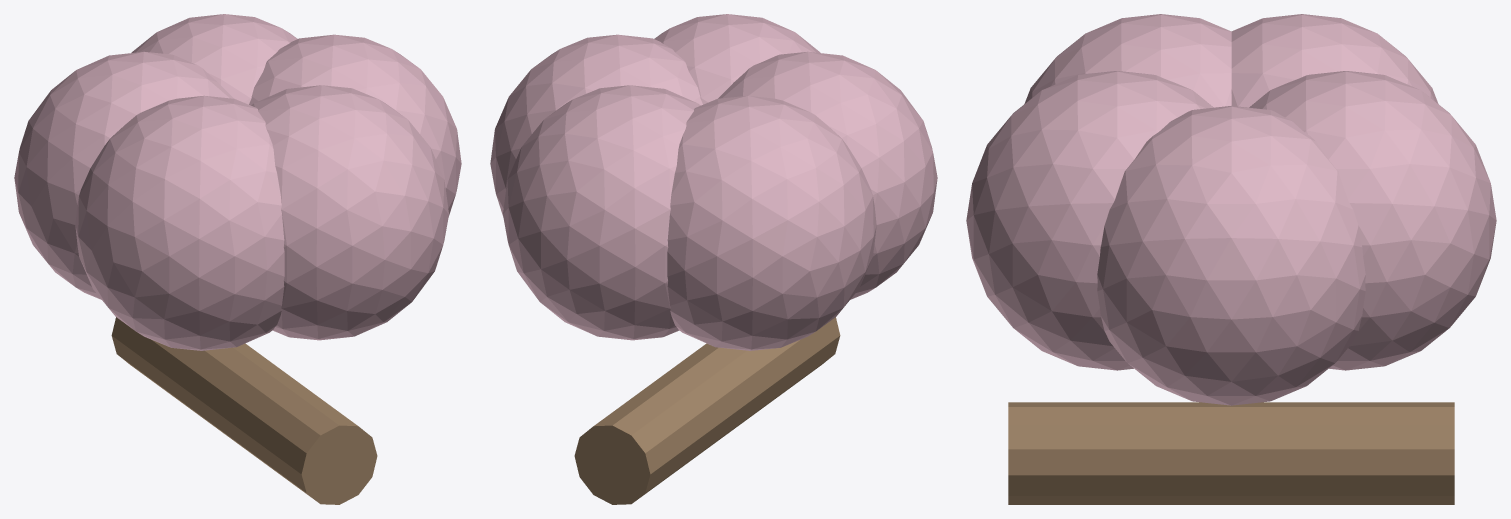
The model's file is world_02.glb.
3 views of the same model, side by side, from view 1: azimuth 30°, elevation 25°; view 2: azimuth 150°, elevation 25°; view 3: azimuth 270°, elevation 25° (orthographic). The views are drawn at different scales.
Parts seen in each view (by area): view 1: canopy_2, canopy_1, trunk, canopy_3, canopy, canopy_4; view 2: canopy_3, canopy_4, trunk, canopy_2, canopy, canopy_1; view 3: canopy, trunk, canopy_1, canopy_4, canopy_2, canopy_3.
Boxes of the visible parts, x1=… form: canopy_2: x1=75, y1=95, x2=284, y2=350; canopy_1: x1=251, y1=85, x2=448, y2=340; trunk: x1=111, y1=317, x2=377, y2=504; canopy_3: x1=14, y1=51, x2=233, y2=299; canopy: x1=249, y1=34, x2=461, y2=216; canopy_4: x1=131, y1=14, x2=297, y2=104; canopy_3: x1=667, y1=95, x2=876, y2=350; canopy_4: x1=503, y1=85, x2=700, y2=340; trunk: x1=574, y1=317, x2=840, y2=504; canopy_2: x1=718, y1=51, x2=937, y2=299; canopy: x1=490, y1=34, x2=702, y2=216; canopy_1: x1=654, y1=14, x2=820, y2=104; canopy: x1=1097, y1=106, x2=1365, y2=405; trunk: x1=1008, y1=402, x2=1454, y2=504; canopy_1: x1=966, y1=71, x2=1213, y2=370; canopy_4: x1=1249, y1=71, x2=1496, y2=370; canopy_2: x1=1024, y1=14, x2=1231, y2=107; canopy_3: x1=1231, y1=14, x2=1438, y2=107.
Bounding box in the file's own units: 1.51 × 1.39 × 1.55.
